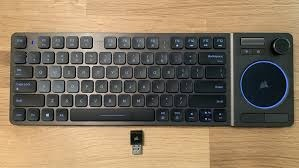keyboard: (13, 35, 231, 126)
